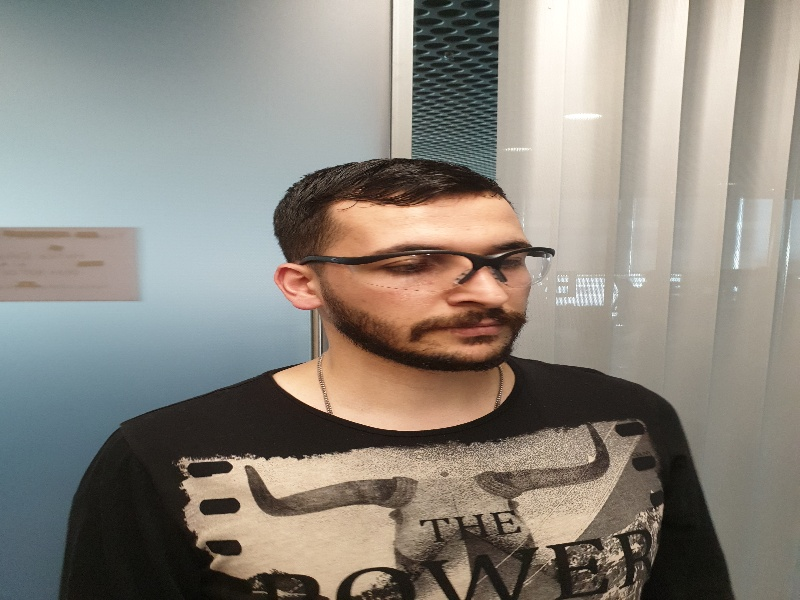Gozluk: (296, 248, 559, 285)
